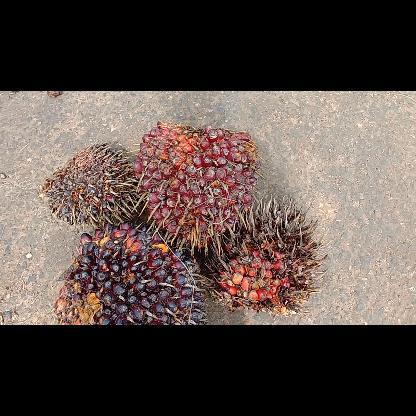Kurang masak: (53, 220, 209, 324)
TBS abnormal: (38, 140, 142, 228)
TBS masak: (132, 116, 258, 252)
Terlalu masak: (201, 198, 330, 316)
